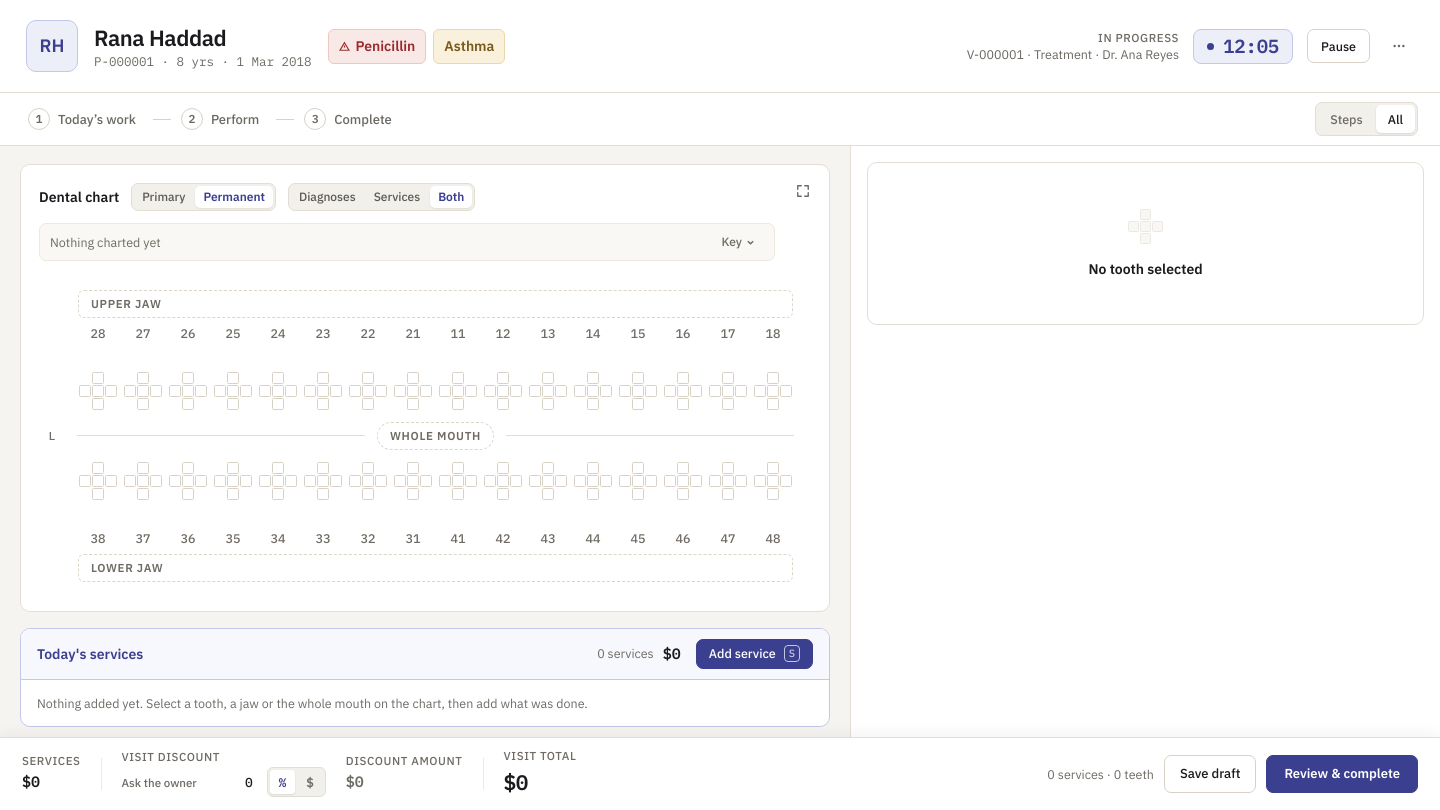
Test: ToothPanel › builds the pending surface scope from the glyph, and adding a service clears it
Expected: the element named "Upper arch" is shown, [78, 324, 793, 411]
Click the button named "#16 · " at (683, 367), box [663, 324, 703, 411]
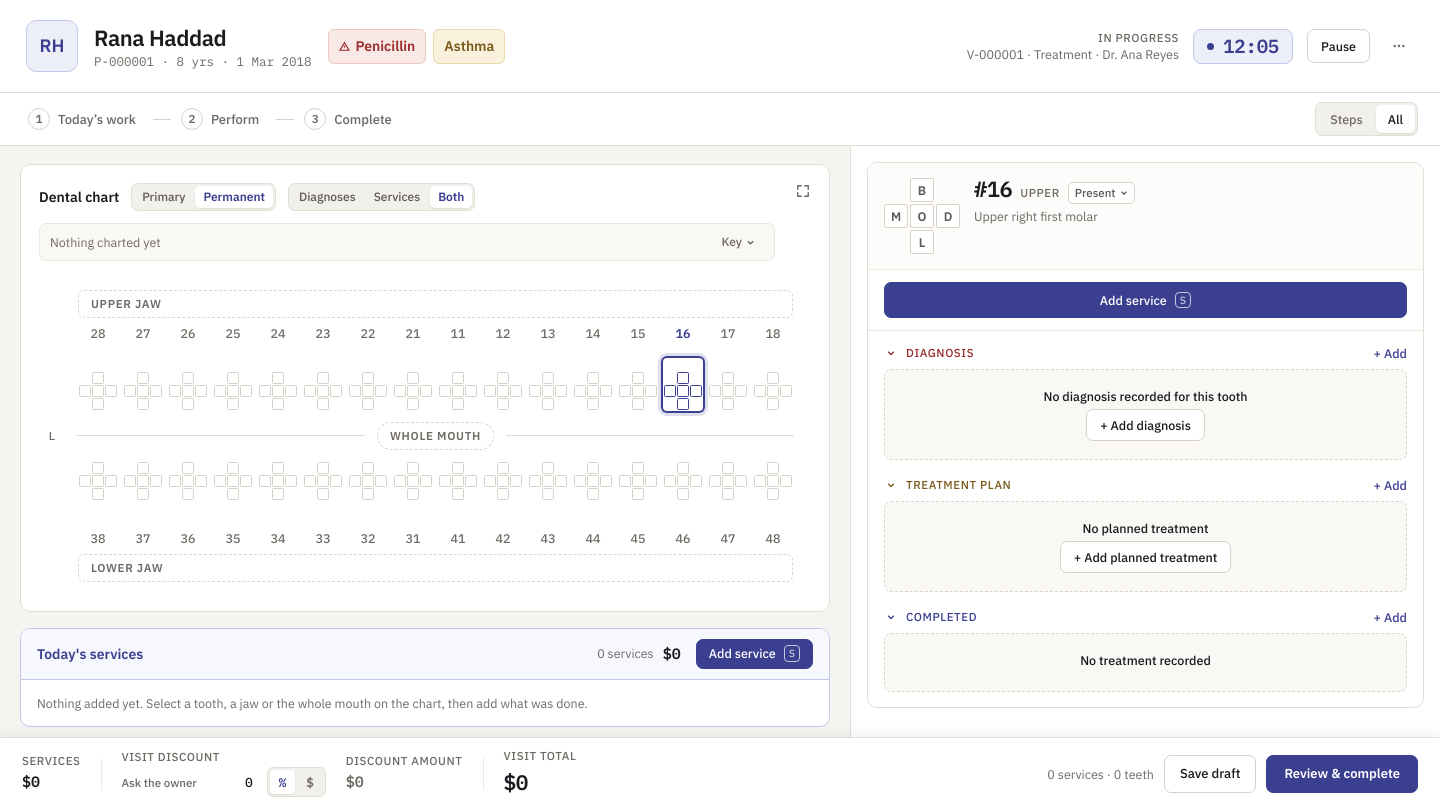
Click the button named "Occlusal" at (922, 216), box [910, 204, 934, 228]
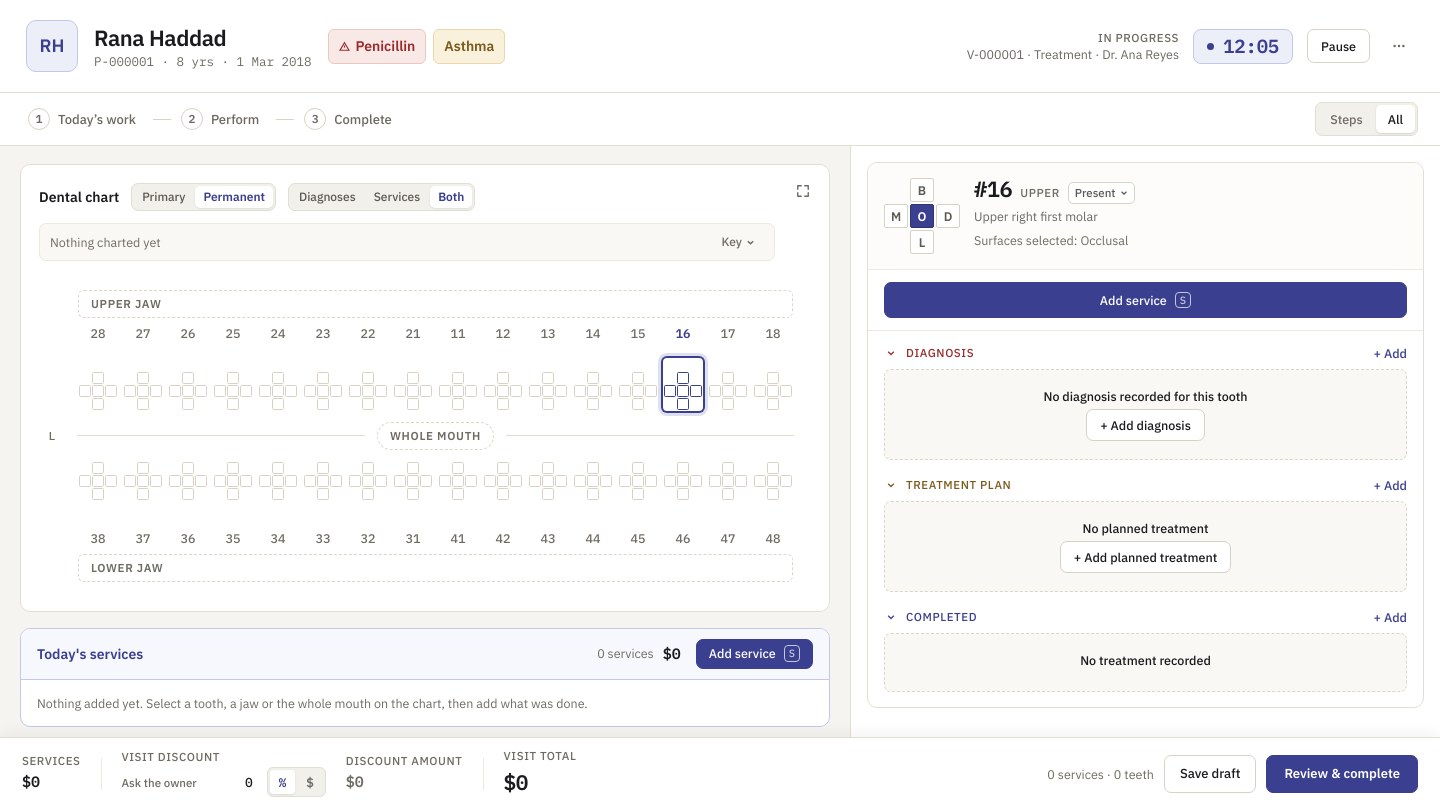
Click the button named "Distal" at (948, 216), box [936, 204, 960, 228]
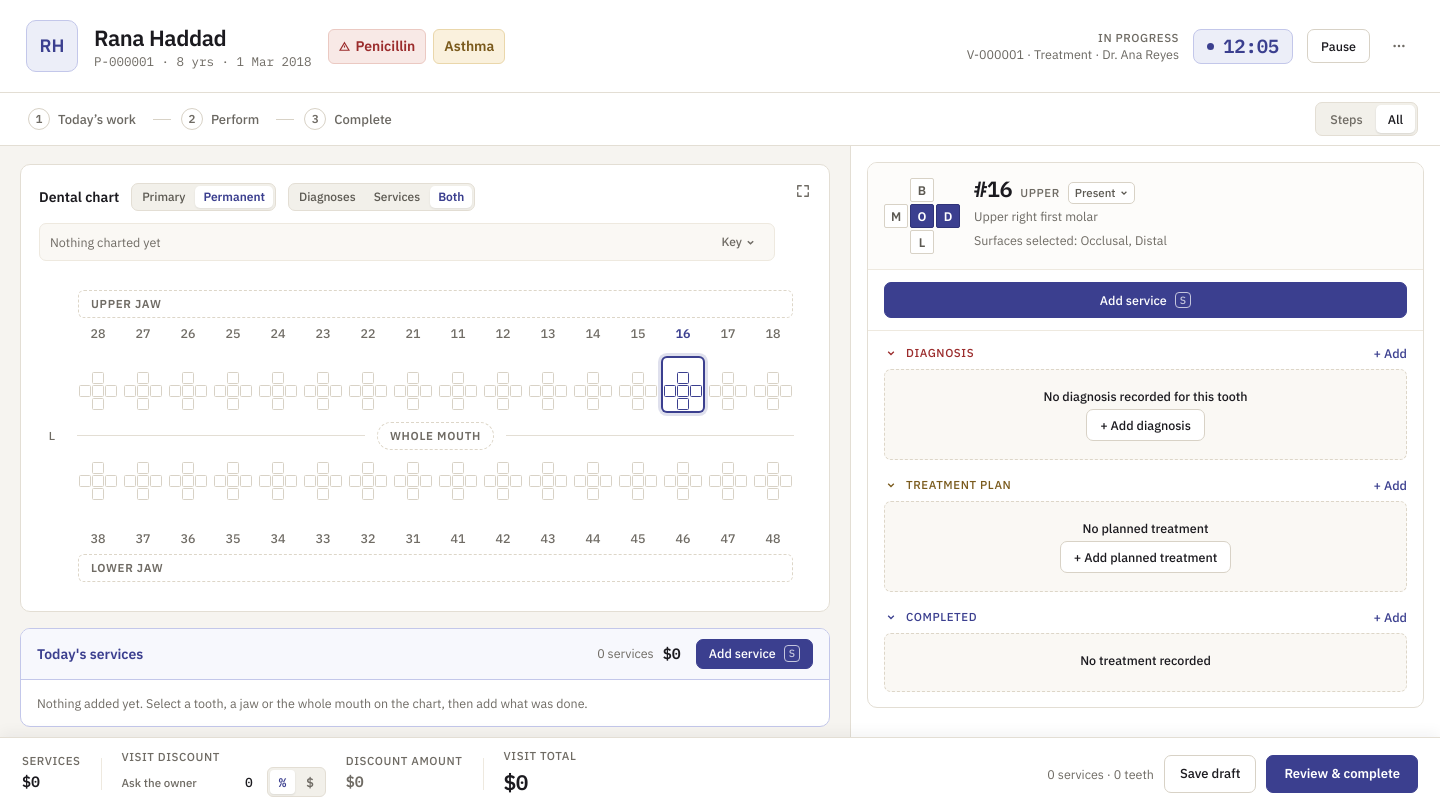
Expected: the text "Surfaces selected: Occlusal, Distal" is shown, [974, 232, 1167, 248]
Click the button with aria-label "Add completed service" at (1390, 617), box [1374, 610, 1407, 623]
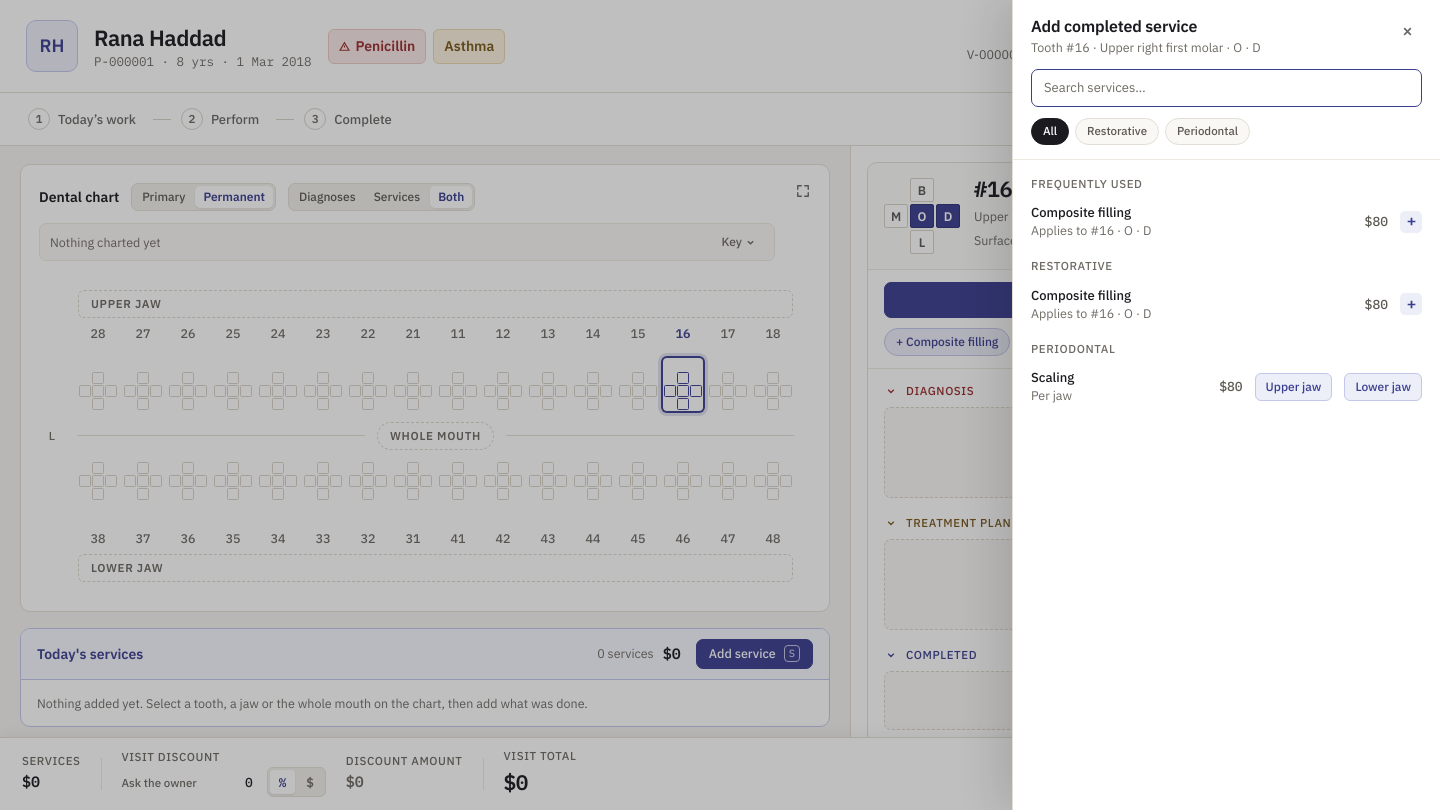
Expected: the text "Tooth #16 · Upper right first molar · O · D" is shown, [1031, 39, 1261, 55]
Click the button "Composite filling Applies to #16 · O · D $80" below "Frequently used" at (1081, 212), box [1013, 195, 1439, 248]
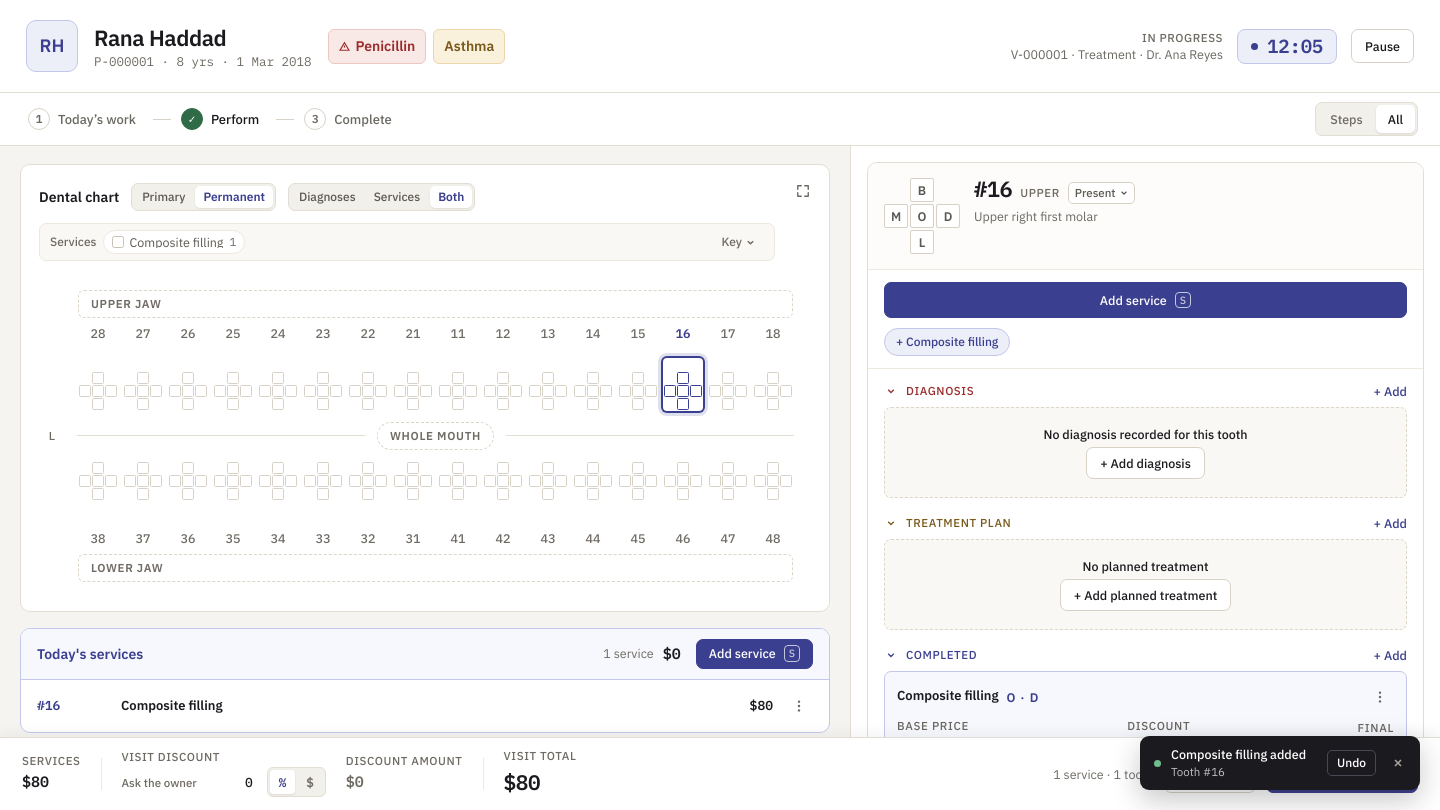
Expected: the text "Tooth #16" is shown, [1171, 764, 1225, 779]
Expected: the text "Surfaces selected" is gone
Expected: the text "Composite filling added" is shown, [1171, 746, 1317, 764]
